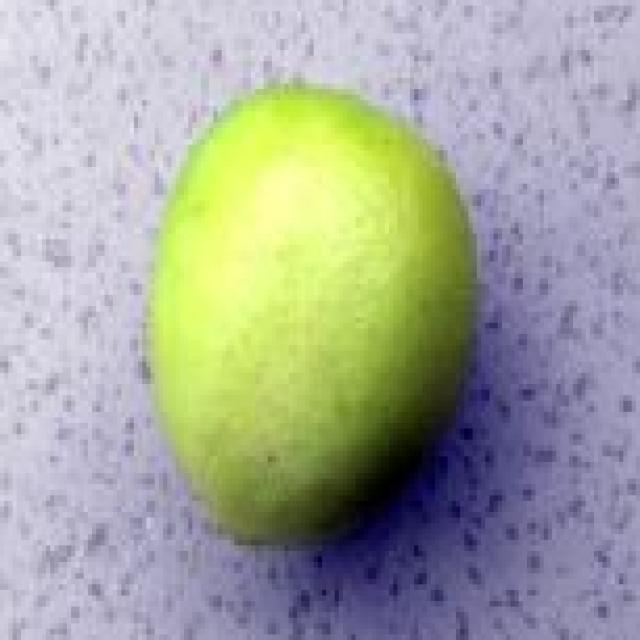Good_Lime-10-21-days: (142, 83, 477, 551)
